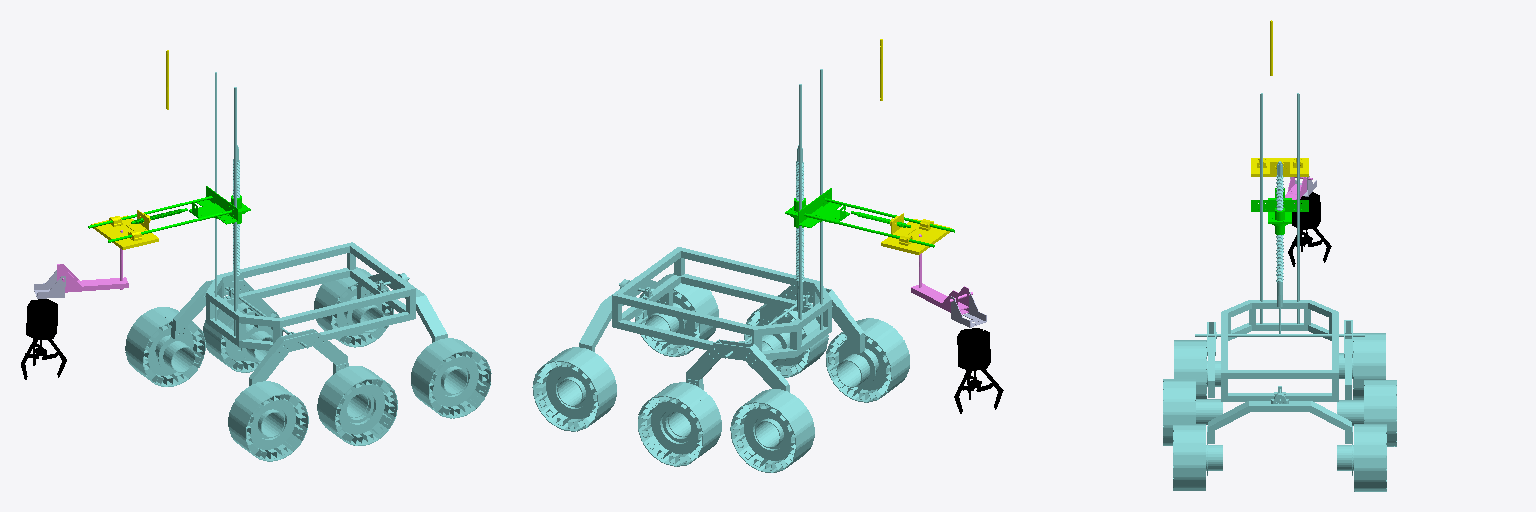
The robot description file, URDF, robot "odom":
<?xml version="1.0" encoding="utf-8"?>
<robot
  name="odom">
<gazebo>
<plugin name="control" filename="libgazebo_ros_control.so"/>
<robotNamespace>odom</robotNamespace>
</gazebo>

  <link
    name="base_link">
    <inertial>
      <origin
        xyz="0.25693 -7.4487E-06 0"
        rpy="0 0 0" />
      <mass
        value="18.409" />
      <inertia
        ixx="0.1731"
        ixy="1.1375E-09"
        ixz="9.388E-06"
        iyy="0.20673"
        iyz="-1.4136E-06"
        izz="0.074396" />
    </inertial>
    <visual>
      <origin
        xyz="0 0 0"
        rpy="0 0 0" />
      <geometry>
        <mesh
          filename="package://odom/meshes/base_link.STL" />
      </geometry>
      <material
        name="">
        <color
          rgba="0.6 0.9 0.9 1" />
      </material>
    </visual>
    <collision>
      <origin
        xyz="0 0 1"
        rpy="0 0 0" />
      <geometry>
        <mesh
          filename="package://odom/meshes/base_link.STL" />
      </geometry>
    </collision>
  </link>
  <link
    name="mainlead">
    <inertial>
      <origin
        xyz="-0.17935 -2.4909E-06 0.38419"
        rpy="0 0 0" />
      <mass
        value="1.4332" />
      <inertia
        ixx="0.0012012"
        ixy="-2.814E-08"
        ixz="-2.5005E-05"
        iyy="0.01448"
        iyz="2.5511E-08"
        izz="0.0152" />
    </inertial>
    <visual>
      <origin
        xyz="0 0 0"
        rpy="0 0 0" />
      <geometry>
        <mesh
          filename="package://odom/meshes/mainlead.STL" />
      </geometry>
      <material
        name="">
        <color
          rgba="0 1 0 1" />
      </material>
    </visual>
    <collision>
      <origin
        xyz="0 0 0"
        rpy="0 0 0" />
      <geometry>
        <mesh
          filename="package://odom/meshes/mainlead.STL" />
      </geometry>
    </collision>
  </link>
  <joint
    name="prism1"
    type="prismatic">
    <origin
      xyz="0 0 0"
      rpy="0 0 0" />
    <parent
      link="base_link" />
    <child
      link="mainlead" />
    <axis
      xyz="0 0 1" />
    <limit
      lower="-0.2"
      upper="0.15"
      effort="0"
      velocity="0" />
  </joint>
  <link
    name="horilead">
    <inertial>
      <origin
        xyz="-0.28352 3.8414E-08 -0.035497"
        rpy="0 0 0" />
      <mass
        value="1.7135" />
      <inertia
        ixx="0.0053368"
        ixy="-5.7127E-10"
        ixz="-8.7588E-06"
        iyy="0.0027619"
        iyz="4.7315E-12"
        izz="0.00677" />
    </inertial>
    <visual>
      <origin
        xyz="0 0 0"
        rpy="0 0 0" />
      <geometry>
        <mesh
          filename="package://odom/meshes/horilead.STL" />
      </geometry>
      <material
        name="">
        <color
          rgba="1 1 0 0.88" />
      </material>
    </visual>
    <collision>
      <origin
        xyz="0 0 0"
        rpy="0 0 0" />
      <geometry>
        <mesh
          filename="package://odom/meshes/horilead.STL" />
      </geometry>
    </collision>
  </link>
  <joint
    name="prism2"
    type="prismatic">
    <origin
      xyz="-0.1702 0 0.40871"
      rpy="0 0 0" />
    <parent
      link="mainlead" />
    <child
      link="horilead" />
    <axis
      xyz="-1 0 0" />
    <limit
      lower="-0.17"
      upper="0.07"
      effort="0"
      velocity="0" />
  </joint>
  <link
    name="rotational1">
    <inertial>
      <origin
        xyz="-0.065787 0.024466 -0.16695"
        rpy="0 0 0" />
      <mass
        value="0.35324" />
      <inertia
        ixx="0.00081591"
        ixy="0.00030148"
        ixz="1.2093E-05"
        iyy="0.0015145"
        iyz="-4.4972E-06"
        izz="0.0010663" />
    </inertial>
    <visual>
      <origin
        xyz="0 0 0"
        rpy="0 0 0" />
      <geometry>
        <mesh
          filename="package://odom/meshes/rotational1.STL" />
      </geometry>
      <material
        name="">
        <color
          rgba="1 0.6 1 1" />
      </material>
    </visual>
    <collision>
      <origin
        xyz="0 0 0"
        rpy="0 0 0" />
      <geometry>
        <mesh
          filename="package://odom/meshes/rotational1.STL" />
      </geometry>
    </collision>
  </link>
  <joint
    name="rot1"
    type="revolute">
    <origin
      xyz="-0.30163 0 -0.0215"
      rpy="0 0 0" />
    <parent
      link="horilead" />
    <child
      link="rotational1" />
    <axis
      xyz="0 0 1" />
    <limit
      lower="-3.14"
      upper="3.14"
      effort="0"
      velocity="0" />
  </joint>
  <link
    name="rotational2">
    <inertial>
      <origin
        xyz="-0.035913 -0.0508 -0.054462"
        rpy="0 0 0" />
      <mass
        value="0.029617" />
      <inertia
        ixx="4.2587E-05"
        ixy="6.2209E-20"
        ixz="-8.6696E-06"
        iyy="3.9404E-05"
        iyz="-1.0914E-22"
        izz="5.5087E-05" />
    </inertial>
    <visual>
      <origin
        xyz="0 0 0"
        rpy="0 0 0" />
      <geometry>
        <mesh
          filename="package://odom/meshes/rotational2.STL" />
      </geometry>
      <material
        name="">
        <color
          rgba="0.79216 0.81961 0.93333 1" />
      </material>
    </visual>
    <collision>
      <origin
        xyz="0 0 0"
        rpy="0 0 0" />
      <geometry>
        <mesh
          filename="package://odom/meshes/rotational2.STL" />
      </geometry>
    </collision>
  </link>
  <joint
    name="rot2"
    type="revolute">
    <origin
      xyz="-0.18662 0.1236 -0.15495"
      rpy="0 0 -0.35604" />
    <parent
      link="rotational1" />
    <child
      link="rotational2" />
    <axis
      xyz="0 -1 0" />
    <limit
      lower="0"
      upper="-3.14"
      effort="0"
      velocity="0" />
  </joint>
  <link
    name="continuous">
    <inertial>
      <origin
        xyz="2.2421E-05 -8.6397E-05 0.12324"
        rpy="0 0 0" />
      <mass
        value="0.44368" />
      <inertia
        ixx="0.00055154"
        ixy="-3.9759E-07"
        ixz="-1.0455E-08"
        iyy="0.00055296"
        iyz="3.349E-08"
        izz="0.00071907" />
    </inertial>
    <visual>
      <origin
        xyz="0 0 0"
        rpy="0 0 0" />
      <geometry>
        <mesh
          filename="package://odom/meshes/continuous.STL" />
      </geometry>
      <material
        name="">
        <color
          rgba="0 0 0 1" />
      </material>
    </visual>
    <collision>
      <origin
        xyz="0 0 0"
        rpy="0 0 0" />
      <geometry>
        <mesh
          filename="package://odom/meshes/continuous.STL" />
      </geometry>
    </collision>
  </link>
  <joint
    name="cont"
    type="continuous">
    <origin
      xyz="-0.065102 -0.0508 -0.072275"
      rpy="-3.1266 0.040194 0.35664" />
    <parent
      link="rotational2" />
    <child
      link="continuous" />
    <axis
      xyz="0 0 -1" />
  </joint>
</robot>

--- What the picture shows (computed from the rendered views, not written in the file) ---
Views: 3 orthographic renders of the robot side by side, from view 1: azimuth 30°, elevation 25°; view 2: azimuth 150°, elevation 25°; view 3: azimuth 270°, elevation 25°.
Robot: odom — 6 links, 5 joints (2 revolute, 1 continuous, 2 prismatic); root link base_link; default pose: all joints at 0.
Visible links, largest first — view 1: base_link, mainlead, continuous, horilead, rotational1, rotational2; view 2: base_link, mainlead, continuous, horilead, rotational1, rotational2; view 3: base_link, continuous, horilead, mainlead.
Link boxes in pixels (x1,y1,x2,y2): base_link: (125,72,491,461); mainlead: (88,186,250,242); continuous: (21,299,66,379); horilead: (91,50,168,249); rotational1: (57,230,128,292); rotational2: (34,270,65,298); base_link: (532,69,909,472); mainlead: (785,188,954,247); continuous: (954,328,1003,413); horilead: (880,39,951,254); rotational1: (911,234,972,314); rotational2: (951,292,986,327); base_link: (1163,93,1396,491); continuous: (1288,192,1331,266); horilead: (1251,20,1308,176); mainlead: (1251,188,1308,234).
Size in the robot's own frame: 1.66 by 0.8968 by 1.53 metres.
6 mesh visuals loaded from 6 distinct referenced files (6 binary STL).